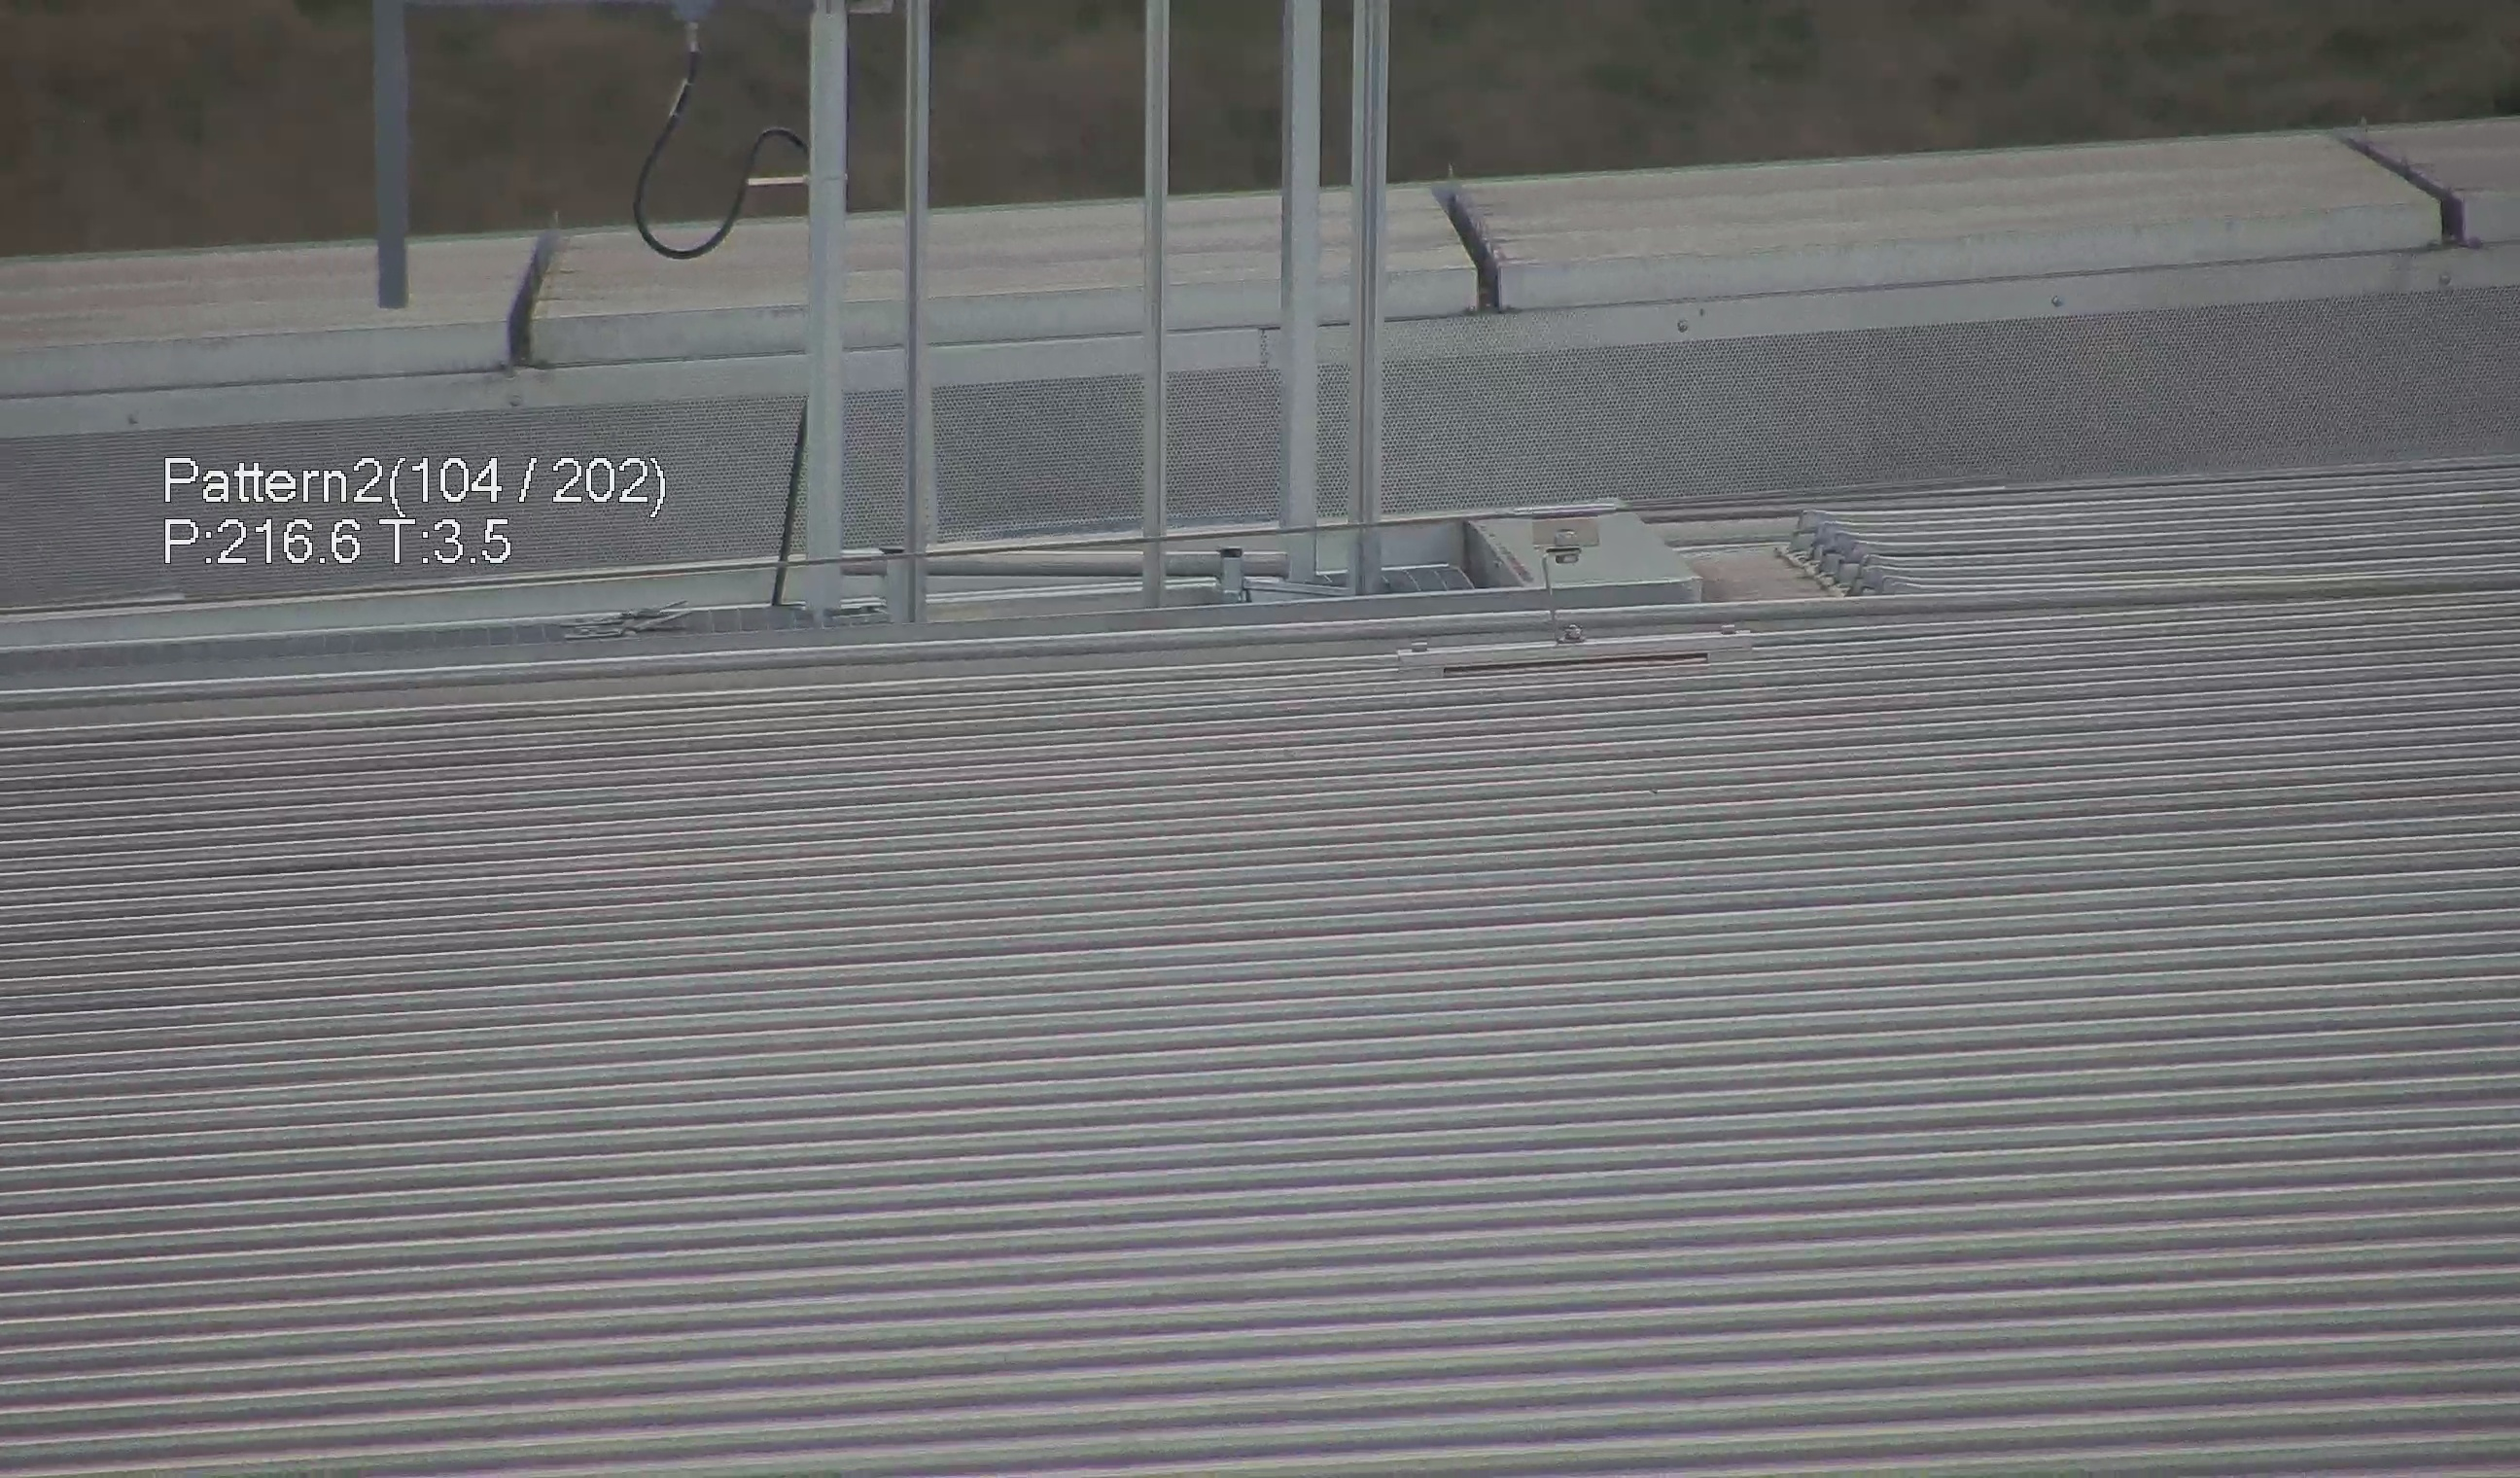Other: (1423, 164, 1530, 318)
